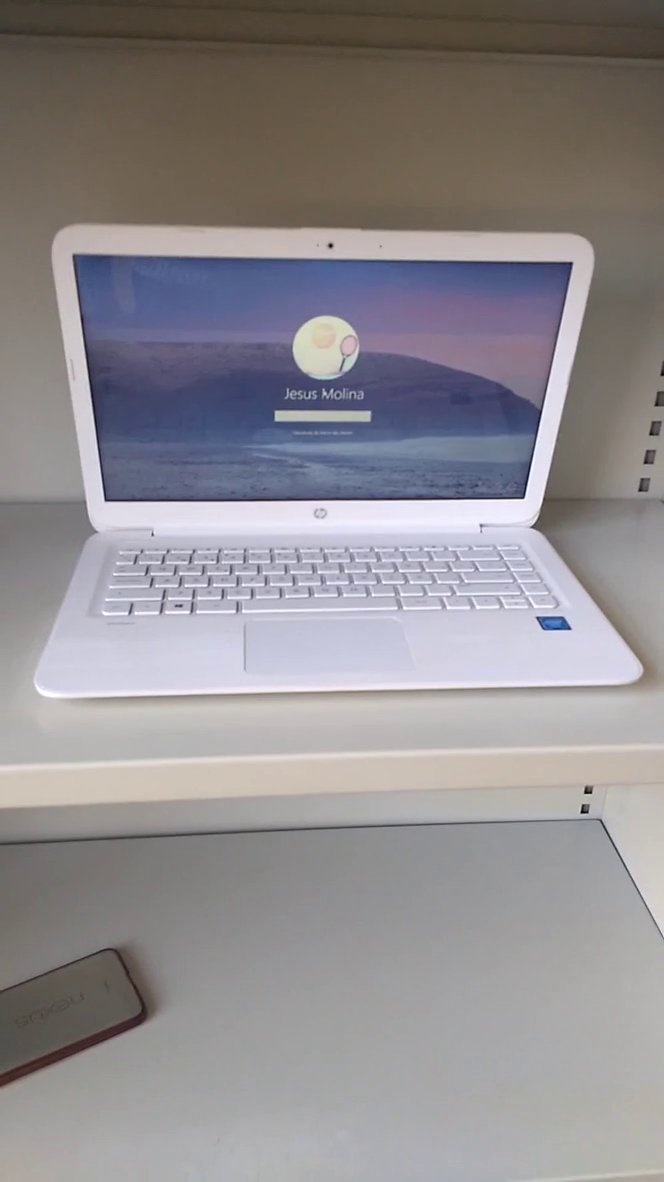laptop: (10, 173, 664, 731)
